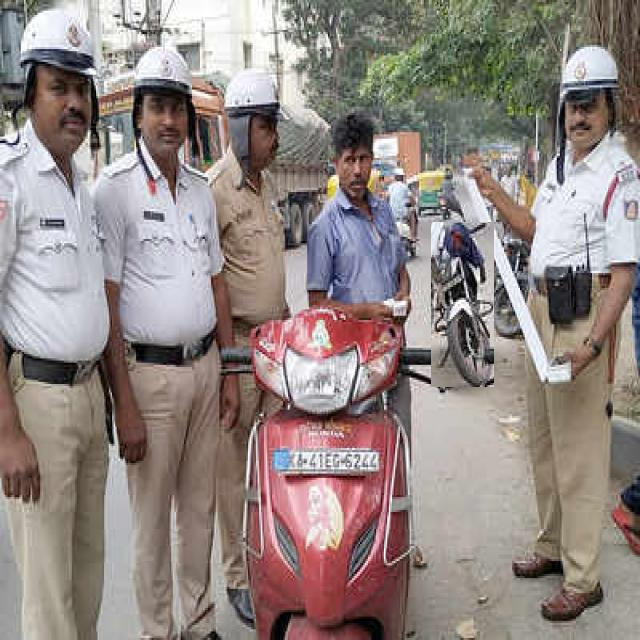motorcycle: (223, 308, 442, 638), (431, 223, 494, 387)
